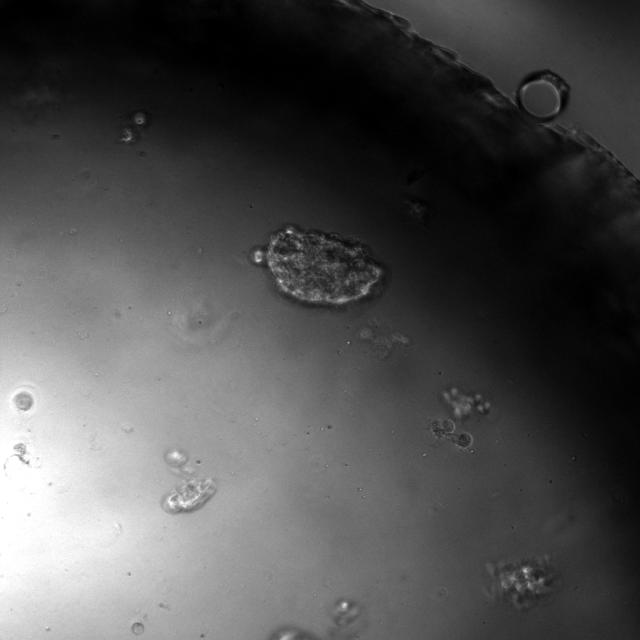organoid: (249, 226, 383, 306), (486, 555, 556, 609), (430, 387, 490, 449), (162, 447, 216, 514), (325, 597, 366, 639), (119, 111, 150, 143), (268, 625, 322, 639), (14, 391, 33, 411), (132, 620, 144, 634)
